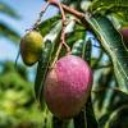mango: (19, 29, 44, 67)
